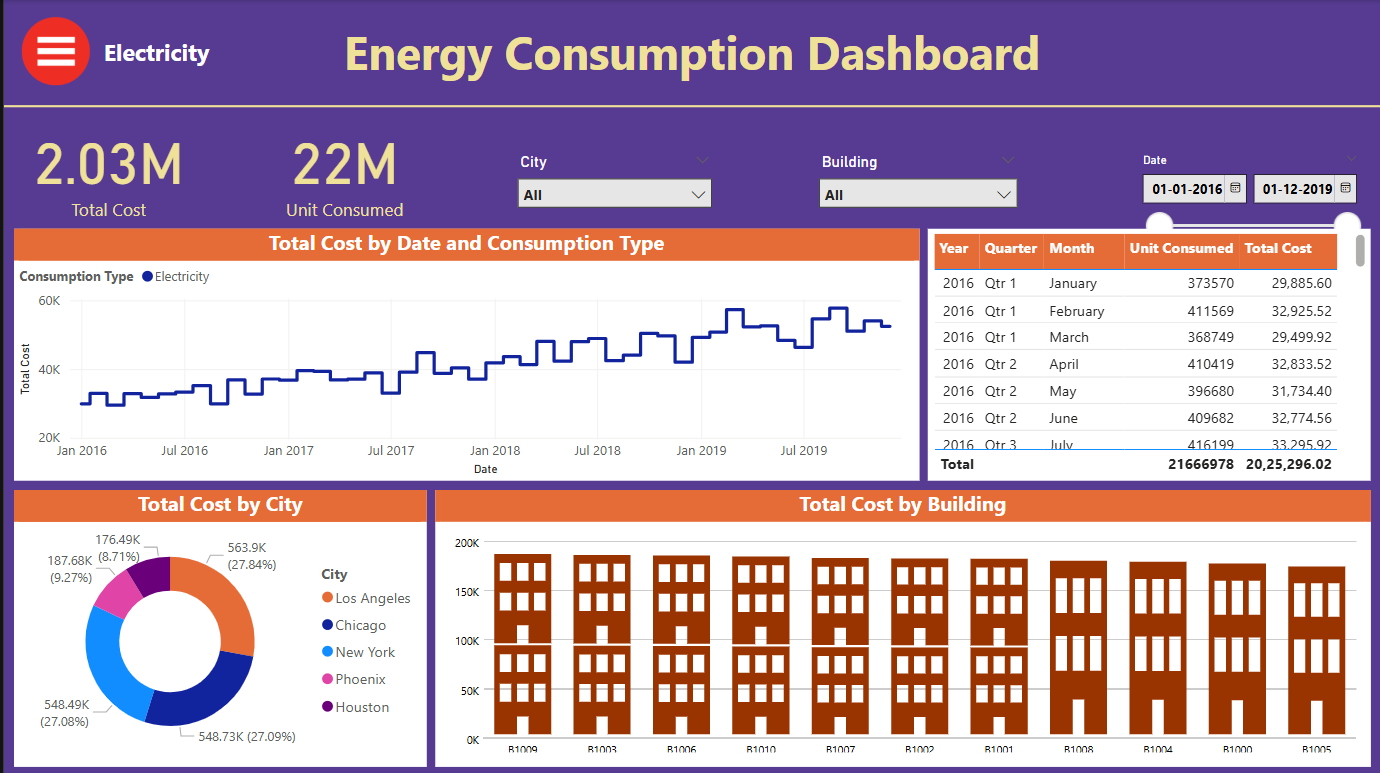

What the dashboard file says about the page in this screenshot:
{"tool":"powerbi","page":{"name":"Electricity","canvas":[1280,720],"ordinal":2},"visuals":[{"type":"shape","box":[0,83.6,1280,30.2],"z":0},{"type":"image","box":[1.3,10.5,94.7,73.7],"z":1000},{"type":"textbox","box":[290.3,14.4,698.4,69],"z":2000},{"type":"textbox","box":[82.5,29,118.5,39.5],"z":3000},{"type":"card","fields":{"Values":["Energy Consumptions.Total Cost"]},"box":[2.9,98.8,190.8,115.1],"z":4000},{"type":"card","fields":{"Values":["Energy Consumptions.Unit Consumed"]},"box":[212.9,98.8,209,115.1],"z":5000},{"type":"slicer","fields":{"Values":["Energy Consumptions.Building"]},"box":[747.9,137.1,205.2,63.3],"z":6000},{"type":"slicer","fields":{"Values":["Building Master.City"]},"box":[466.9,137.1,201.3,63.3],"z":7000},{"type":"slicer","fields":{"Values":["Energy Consumptions.Date"]},"box":[1047,137.1,224.4,93],"z":8000},{"type":"lineChart","fields":{"Category":["Energy Consumptions.Date"],"Y":["Energy Consumptions.Total Cost"],"Series":["Energy Consumptions.Consumption Type"]},"box":[8.8,213.4,842,234.4],"z":9000},{"type":"donutChart","fields":{"Y":["Energy Consumptions.Total Cost"],"Category":["Building Master.City"]},"box":[8.8,455.7,383.7,257.3],"z":10000},{"type":"PBI_CV_73744D90_4DC9_4F18_8BA5_EE8FA5C98035","fields":{"Values":["Energy Consumptions.Total Cost"],"Category":["Energy Consumptions.Building"]},"box":[401.3,455.7,870.1,257.3],"z":11000},{"type":"tableEx","fields":{"Values":["Energy Consumptions.Date.Variation.Date Hierarchy.Year","Energy Consumptions.Date.Variation.Date Hierarchy.Quarter","Energy Consumptions.Date.Variation.Date Hierarchy.Month","Energy Consumptions.Unit Consumed","Energy Consumptions.Total Cost"]},"box":[859.6,213.4,411.8,234.4],"z":12000},{"type":"actionButton","box":[0,0,86.5,98.7],"z":15000}]}

Visuals, with their boxes in screenshot pixels (x1, y1, x2, y2), scaled from the page's 1280x720 canvas onto the 1380x773 screenshot:
shape: 0 90 1379 122
image: 1 11 104 90
textbox: 313 15 1066 90
textbox: 89 31 217 74
card - Energy Consumptions.Total Cost: 3 106 209 230
card - Energy Consumptions.Unit Consumed: 230 106 455 230
slicer - Energy Consumptions.Building: 806 147 1028 215
slicer - Building Master.City: 503 147 720 215
slicer - Energy Consumptions.Date: 1129 147 1371 247
lineChart - Energy Consumptions.Date x Energy Consumptions.Total Cost: 9 229 917 481
donutChart - Energy Consumptions.Total Cost x Building Master.City: 9 489 423 765
PBI_CV_73744D90_4DC9_4F18_8BA5_EE8FA5C98035 - Energy Consumptions.Total Cost x Energy Consumptions.Building: 433 489 1371 765
tableEx - Energy Consumptions.Date.Variation.Date Hierarchy.Year x Energy Consumptions.Date.Variation.Date Hierarchy.Quarter: 927 229 1371 481
actionButton: 0 0 93 106
